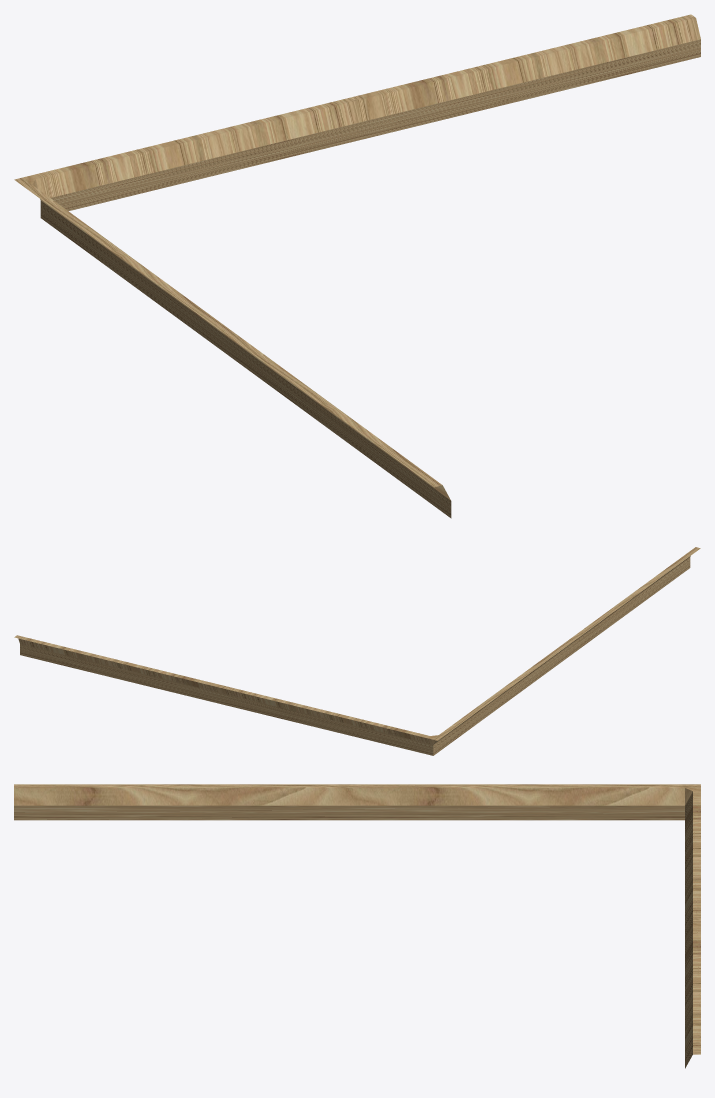
The model's file is SkirtingBoardGroundInnerCornerCustom002.FBX.
3 views of the same model, one above another, from view 1: azimuth 30°, elevation 25°; view 2: azimuth 150°, elevation 25°; view 3: azimuth 270°, elevation 25° (orthographic). The views are drawn at different scales.
Parts seen in each view (by area): view 1: SkirtingBoardGroundInnerCornerCustom002; view 2: SkirtingBoardGroundInnerCornerCustom002; view 3: SkirtingBoardGroundInnerCornerCustom002.
Boxes of the visible parts, x1,y1,x2,y2 form: SkirtingBoardGroundInnerCornerCustom002: [14, 14, 700, 518]; SkirtingBoardGroundInnerCornerCustom002: [14, 547, 700, 755]; SkirtingBoardGroundInnerCornerCustom002: [14, 784, 700, 1068].
Bounding box in the file's own units: 200 × 10 × 215.
